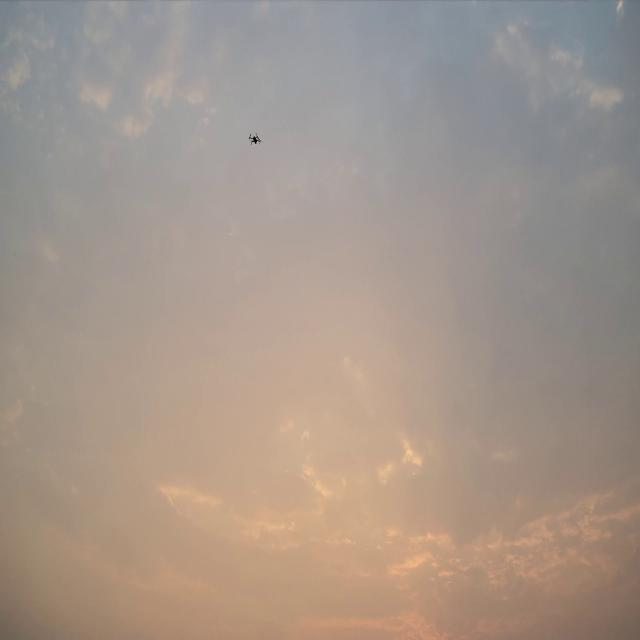drone: (248, 132, 262, 145)
